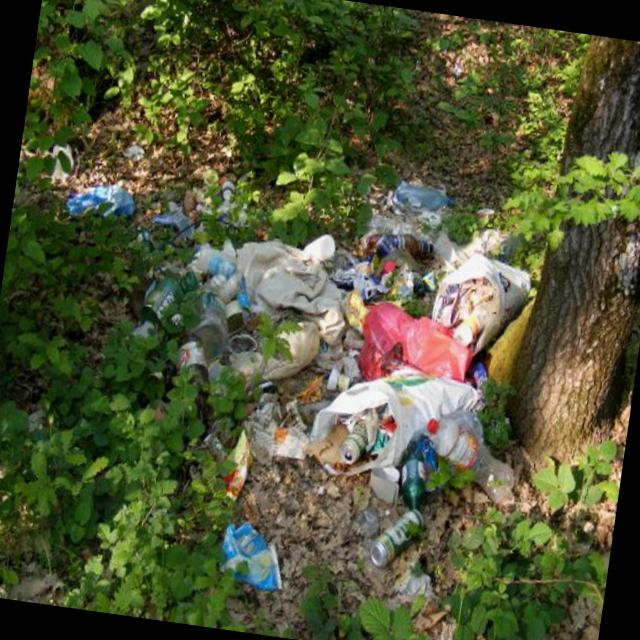garbage: (0, 92, 567, 633)
